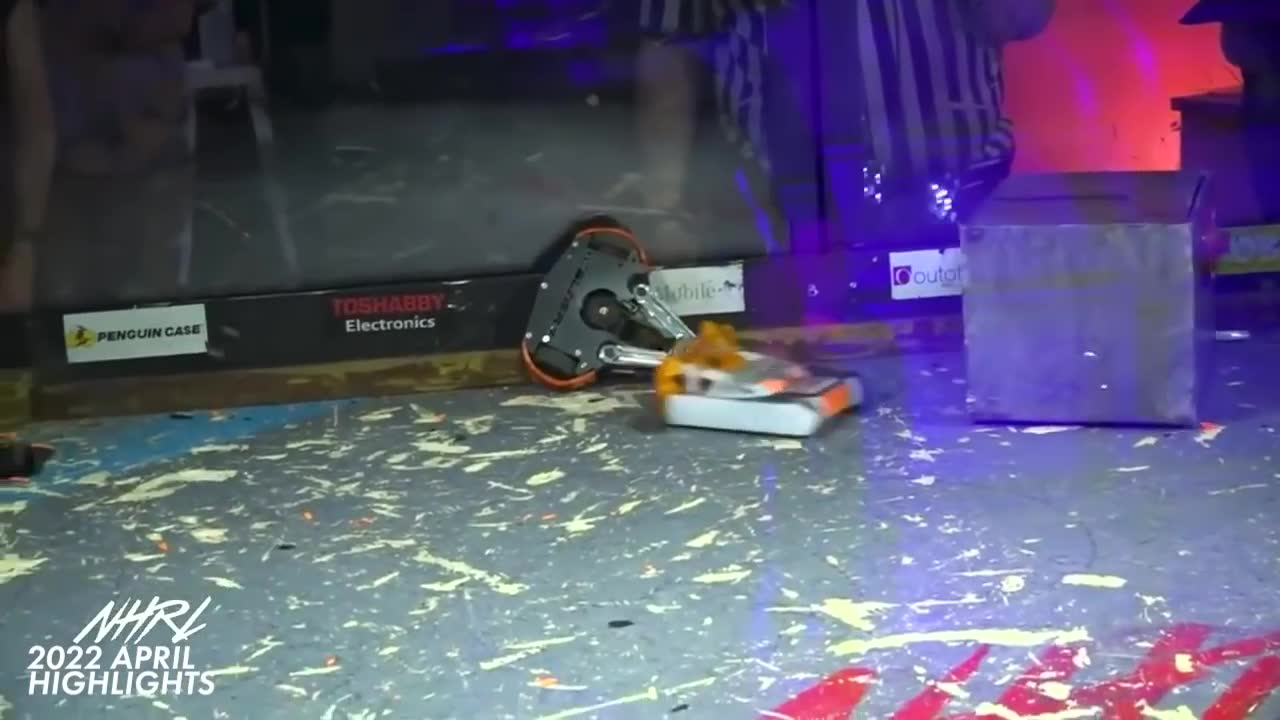combatbot: (519, 223, 697, 389), (647, 320, 877, 437)
housebot: (957, 170, 1224, 428)
